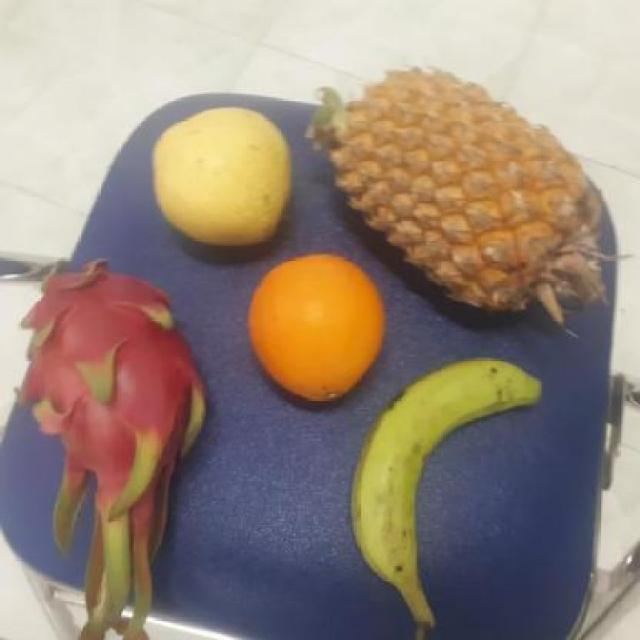banana: (338, 364, 533, 598)
dragon fruit: (20, 262, 208, 530)
oren: (244, 250, 384, 402)
pear: (144, 108, 298, 252)
pineapple: (312, 79, 598, 321)
